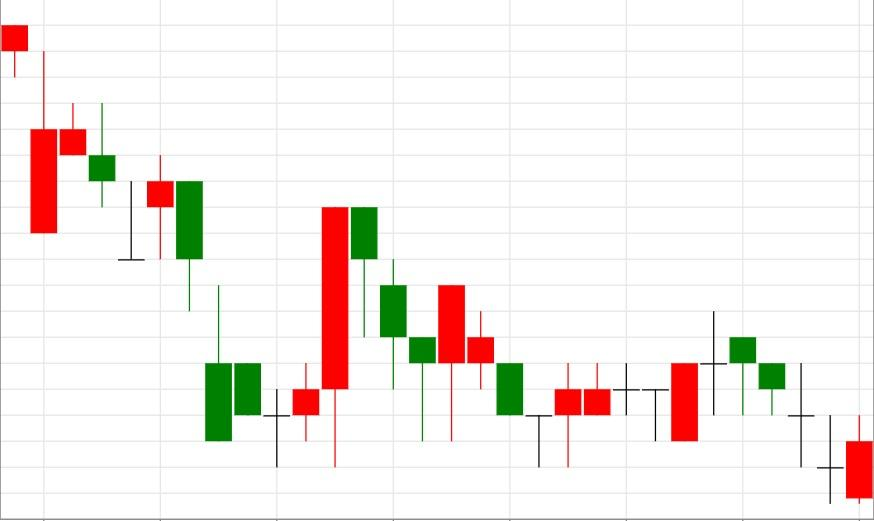three_black_crows_fall: (261, 207, 437, 466)
